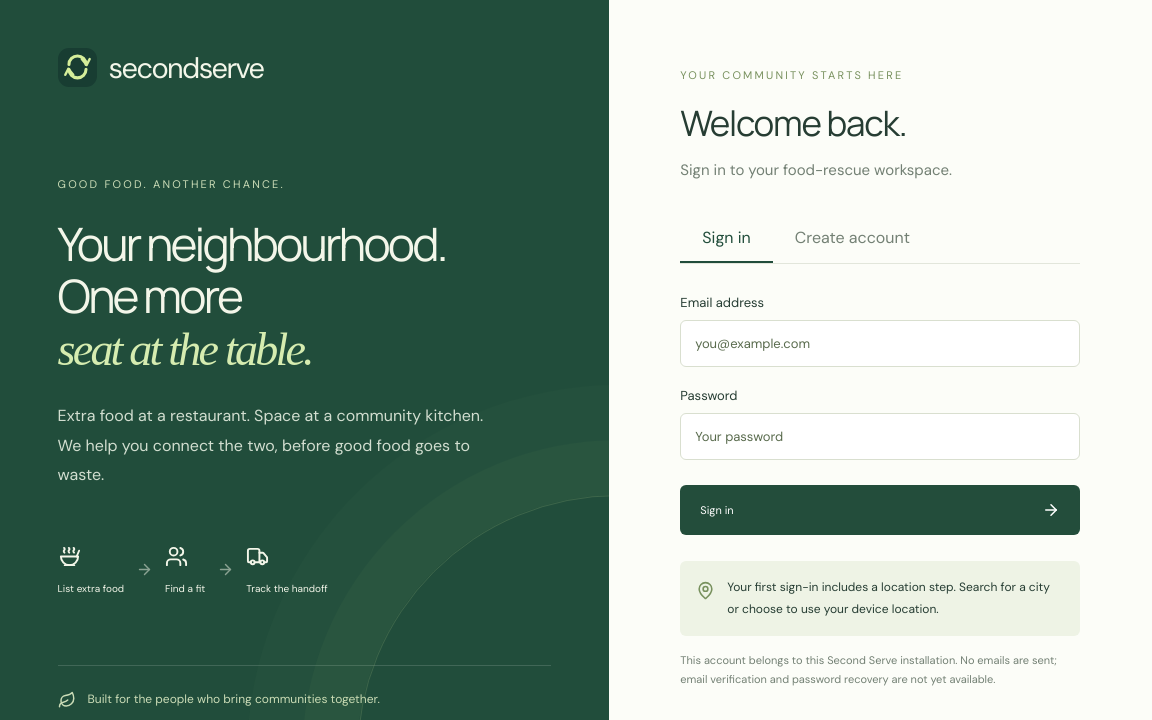
Test: shows login failure without opening the workspace
This screenshot has width=1152, height=720.
Expected: the heading "Welcome back." is shown, [680,100,906,148]
Type "alex@example.com" into the field labelled "Email address".
click(880, 344); type("alex@example.com")  # box [680,320,1080,367]
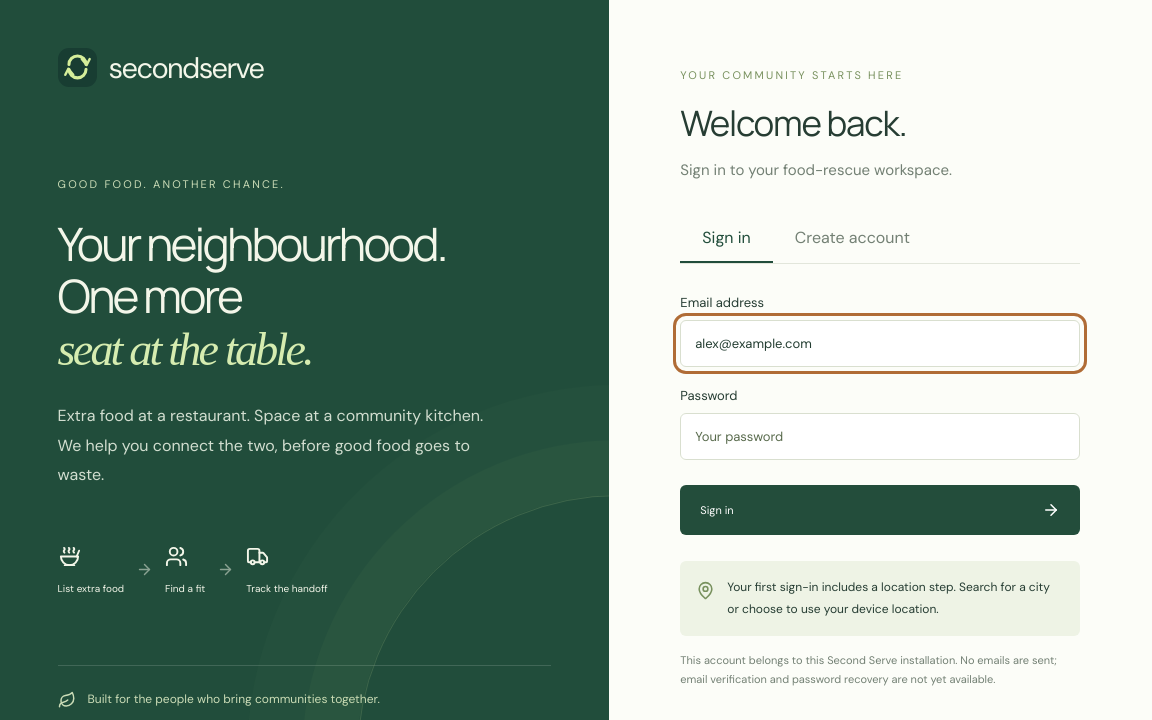
Type "wrong-password" into the password field labelled "Password".
click(880, 436); type("wrong-password")  # box [680,413,1080,460]
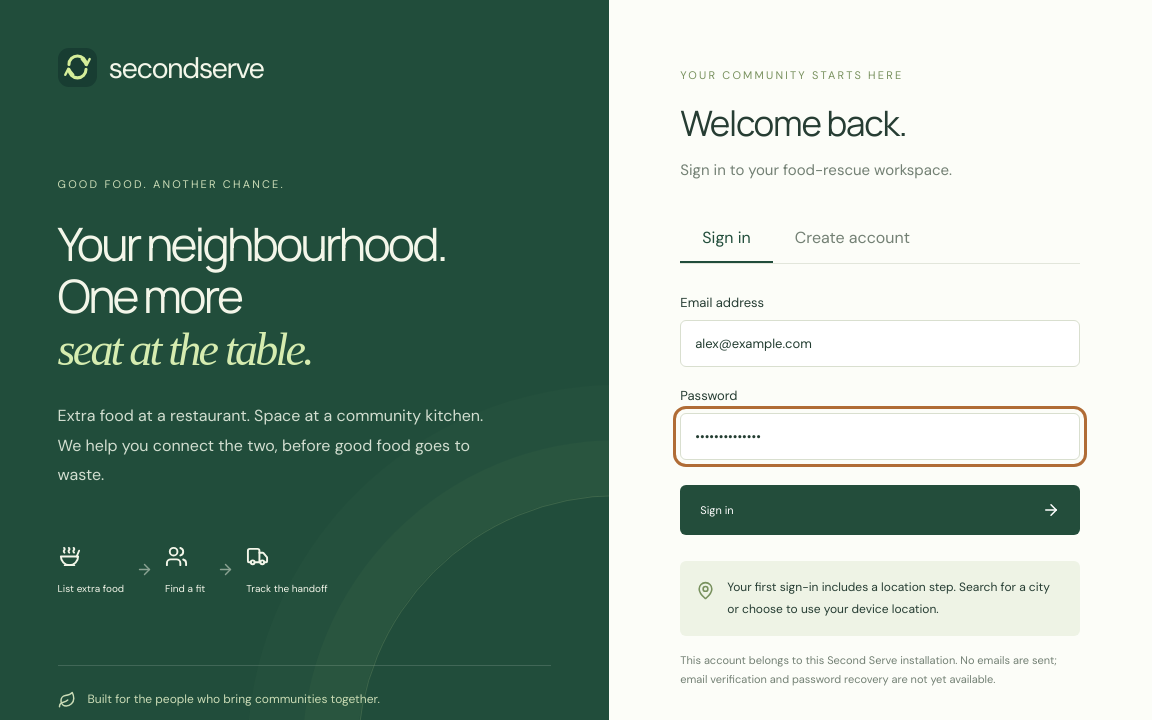
Click the button "Sign in" below "Email address".
click(717, 510)  # box [680,485,1080,535]
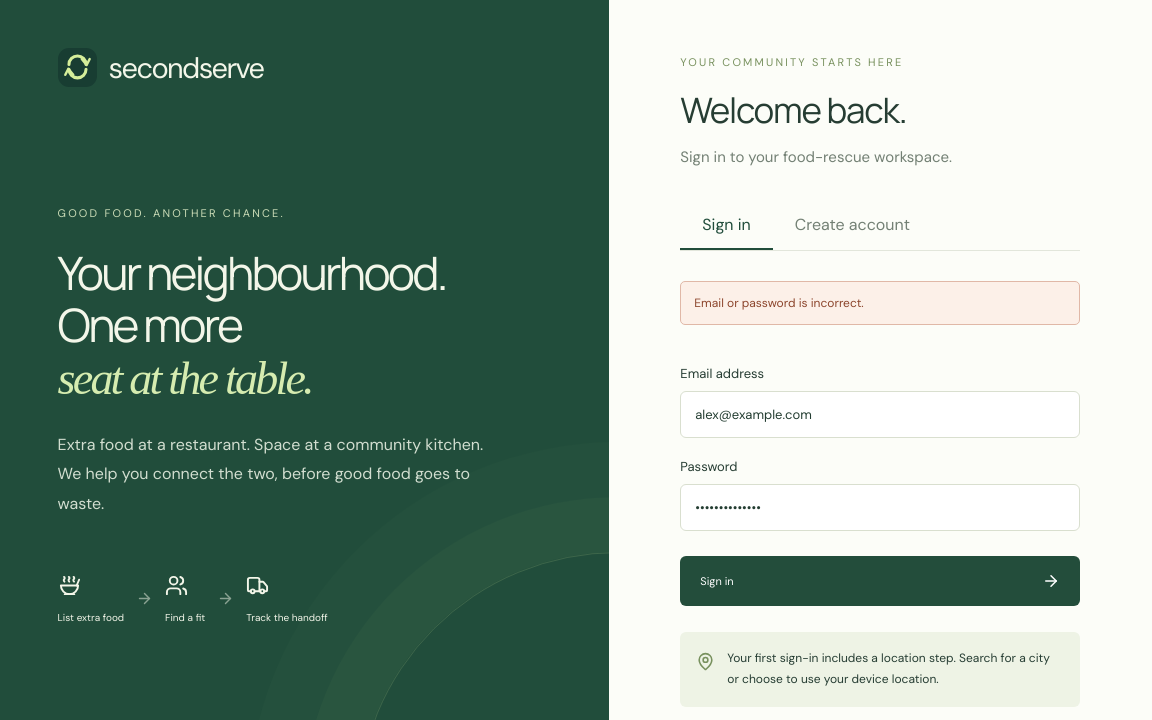
Expected: the message reads "Email or password is incorrect.", [694,294,864,310]
